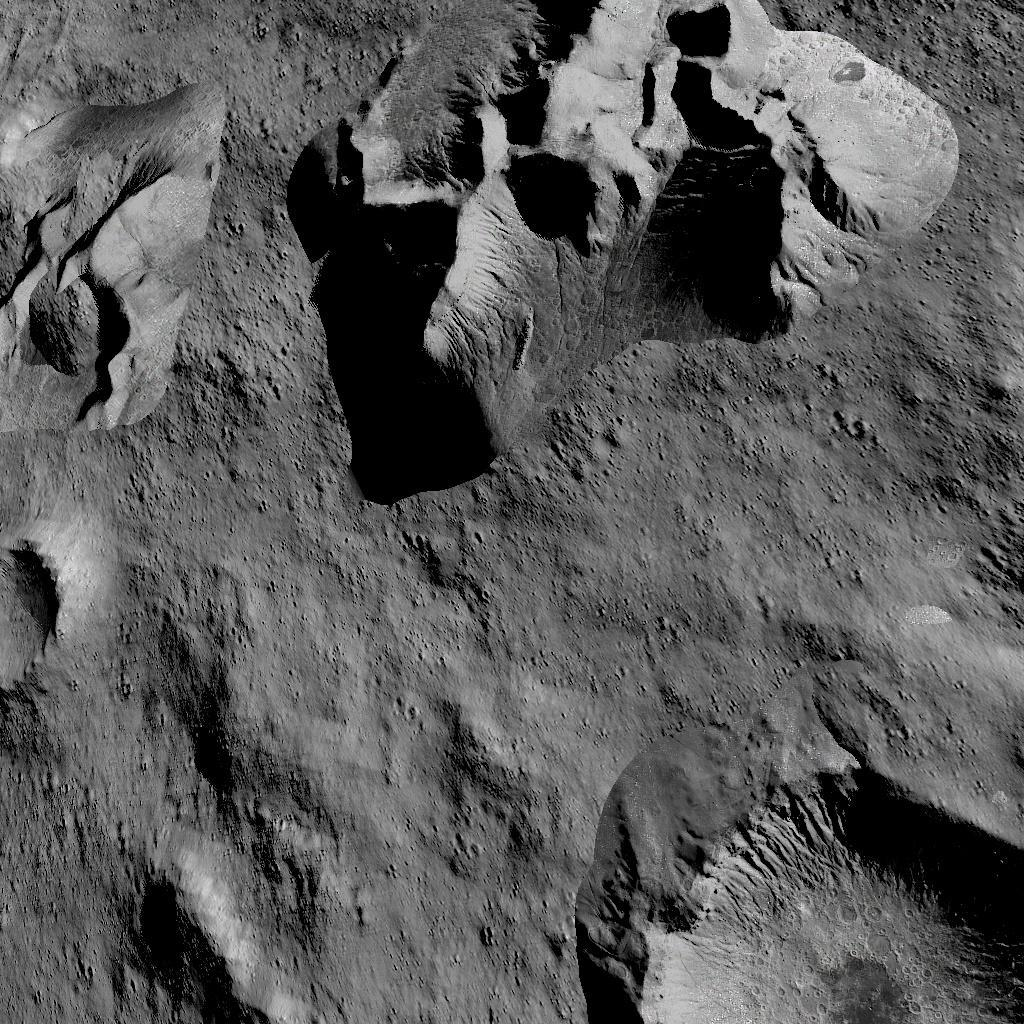Boulders: (282, 3, 967, 505), (0, 84, 232, 450)
Crater: (598, 740, 1024, 1024), (0, 516, 87, 686)
Plan surface: (323, 516, 1020, 729), (310, 748, 581, 1024)
